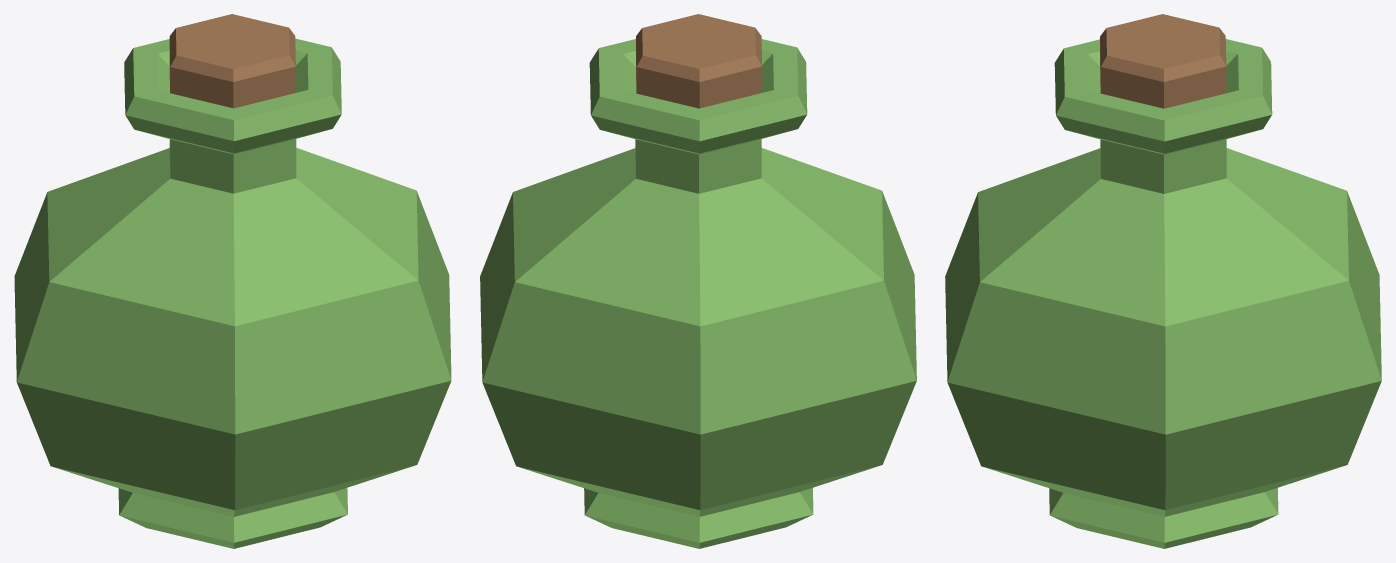
File: Green_Potion_15.fbx
The picture shows the model from 3 angles, left to right: view 1: azimuth 30°, elevation 25°; view 2: azimuth 150°, elevation 25°; view 3: azimuth 270°, elevation 25°; orthographic projection.
Parts seen in each view (by area): view 1: Green_Potion_15; view 2: Green_Potion_15; view 3: Green_Potion_15.
Boxes of the visible parts, x1=… form: Green_Potion_15: x1=14, y1=14, x2=451, y2=548; Green_Potion_15: x1=480, y1=14, x2=916, y2=548; Green_Potion_15: x1=945, y1=14, x2=1381, y2=548.
Bounding box in the file's own units: 20.32 × 20.77 × 17.69.
